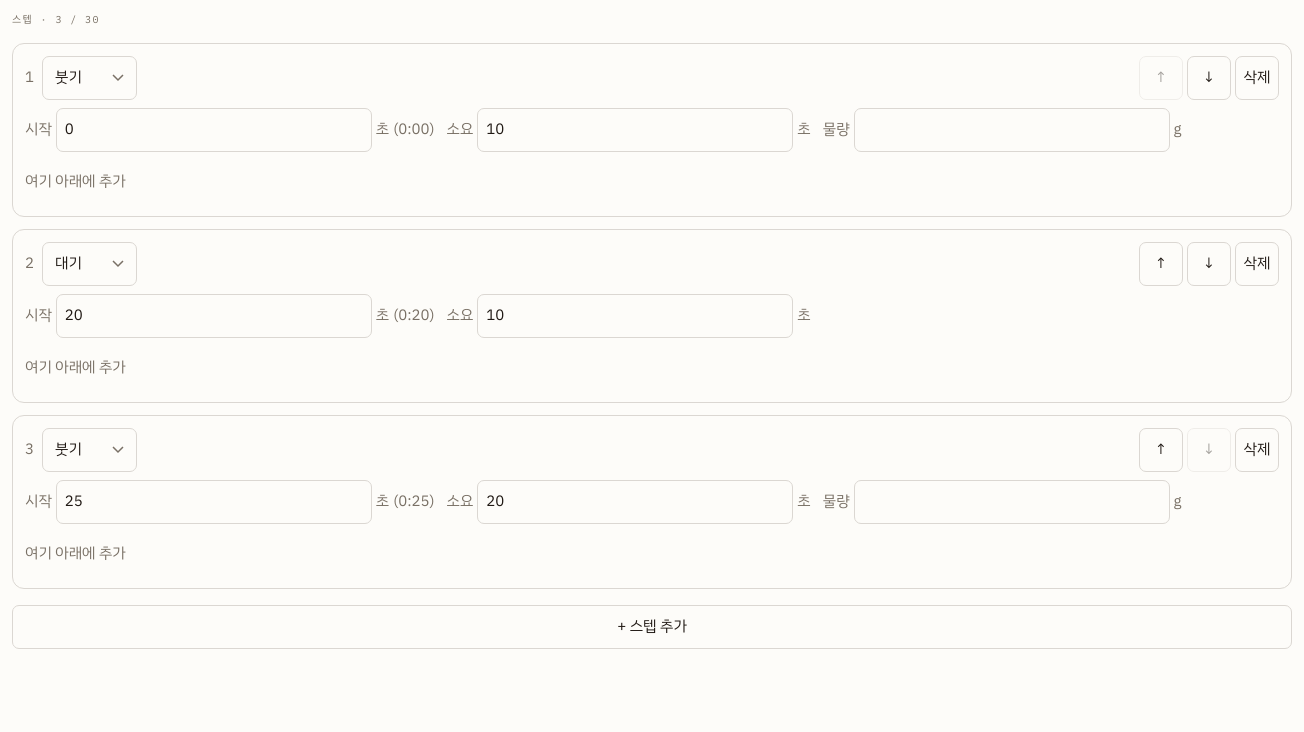
Scenario: RecipeStepEditor › AC-WEBEDIT-18 · 이동 결과 겹치면 뒤 스텝을 겹친 만큼 민다
Click the button named "스텝 3 위로".
click(1161, 450)  # box [1139,428,1183,472]
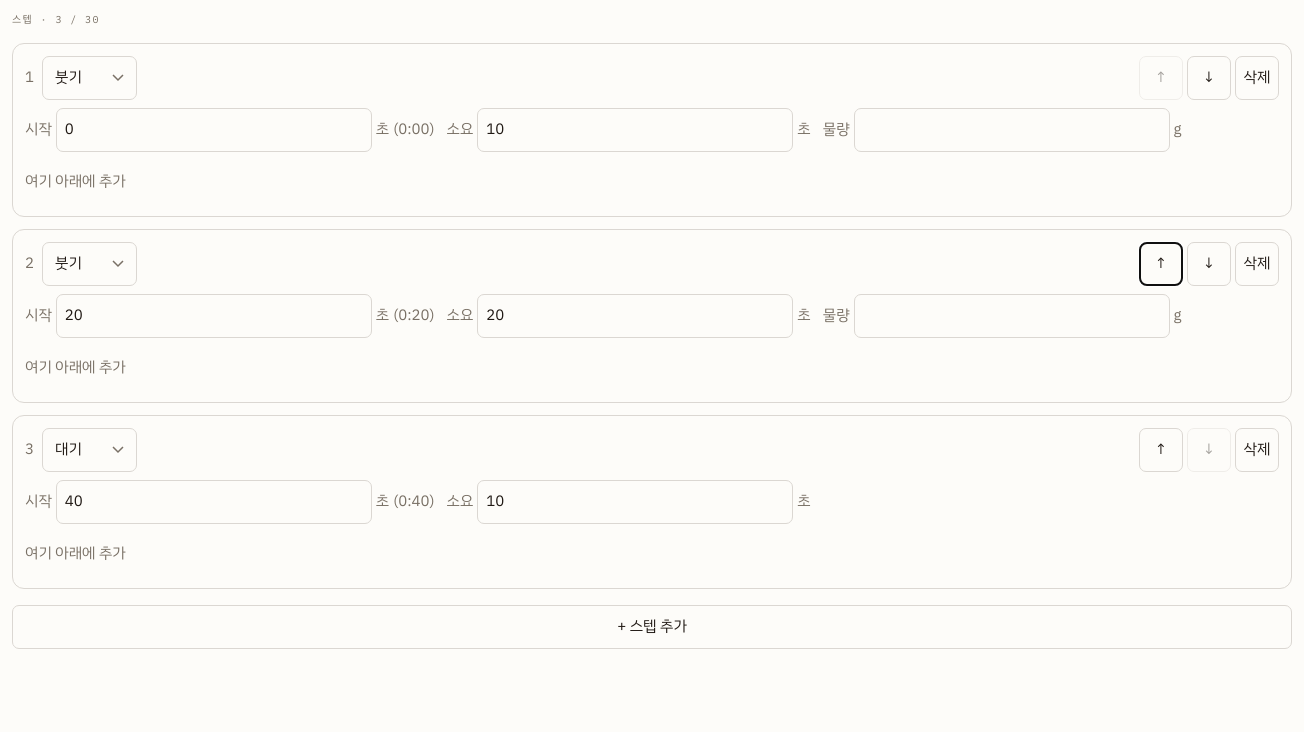
Expected: the number field named "스텝 3 시작" holds "40", [56,480,372,524]
